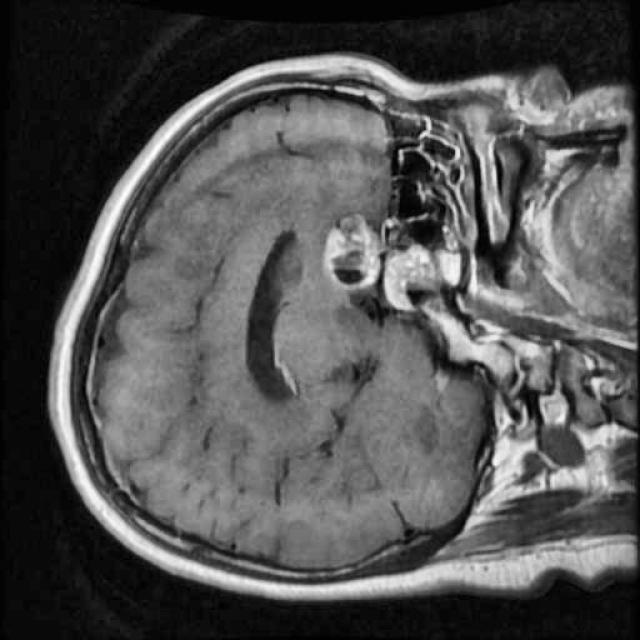Tumor: (309, 200, 466, 335)
